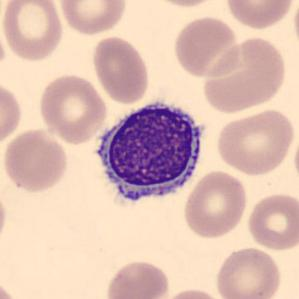Lymphocyte: (87, 94, 209, 215)
RBC: (200, 34, 289, 114), (214, 106, 296, 178), (36, 72, 109, 145), (181, 168, 249, 240), (1, 127, 70, 194), (171, 14, 242, 79), (90, 34, 151, 104), (0, 0, 65, 62), (214, 244, 284, 299), (245, 190, 298, 252), (104, 258, 172, 299), (56, 0, 128, 36), (222, 0, 296, 31), (0, 79, 24, 149), (155, 286, 227, 299), (143, 0, 221, 8), (291, 117, 299, 191), (0, 186, 9, 248), (0, 276, 21, 299)
